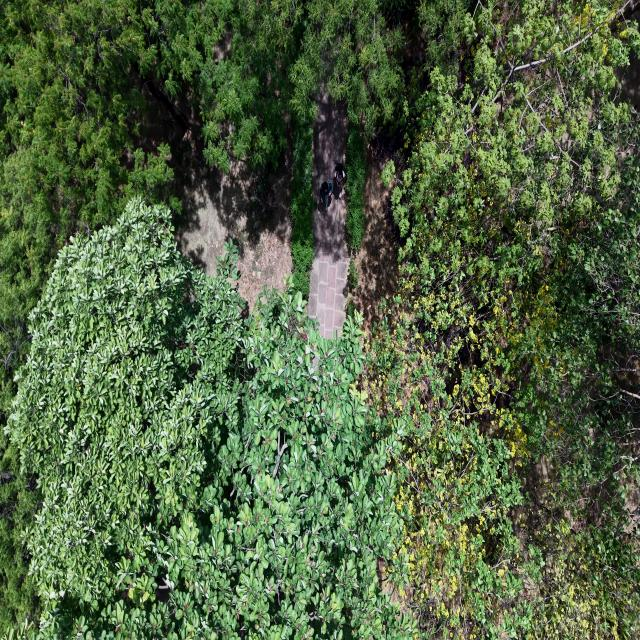DRY_AREA: (135, 77, 292, 308), (140, 78, 292, 309), (140, 80, 292, 309), (141, 80, 292, 309), (143, 82, 292, 308), (177, 148, 292, 308), (179, 152, 291, 309), (350, 129, 404, 331), (349, 129, 403, 326), (350, 130, 403, 326), (308, 86, 349, 337), (309, 87, 349, 337), (309, 87, 349, 336), (351, 156, 398, 325), (313, 85, 348, 258), (308, 254, 349, 337), (377, 557, 413, 611), (614, 50, 639, 108), (615, 50, 639, 108), (617, 52, 639, 107), (620, 474, 639, 532)
VEGETATION_TREE: (0, 0, 639, 639), (0, 1, 403, 609), (9, 199, 411, 639), (366, 2, 639, 637), (0, 0, 405, 318), (10, 198, 242, 597), (0, 1, 172, 423), (0, 1, 172, 320), (149, 0, 404, 169), (152, 1, 304, 170), (295, 0, 405, 130), (0, 322, 39, 633), (0, 424, 41, 633), (290, 121, 315, 294), (346, 125, 366, 250)
